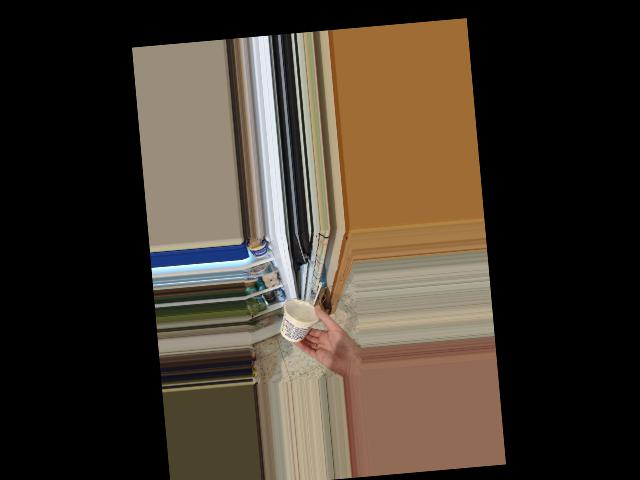cotage: (279, 297, 316, 342)
